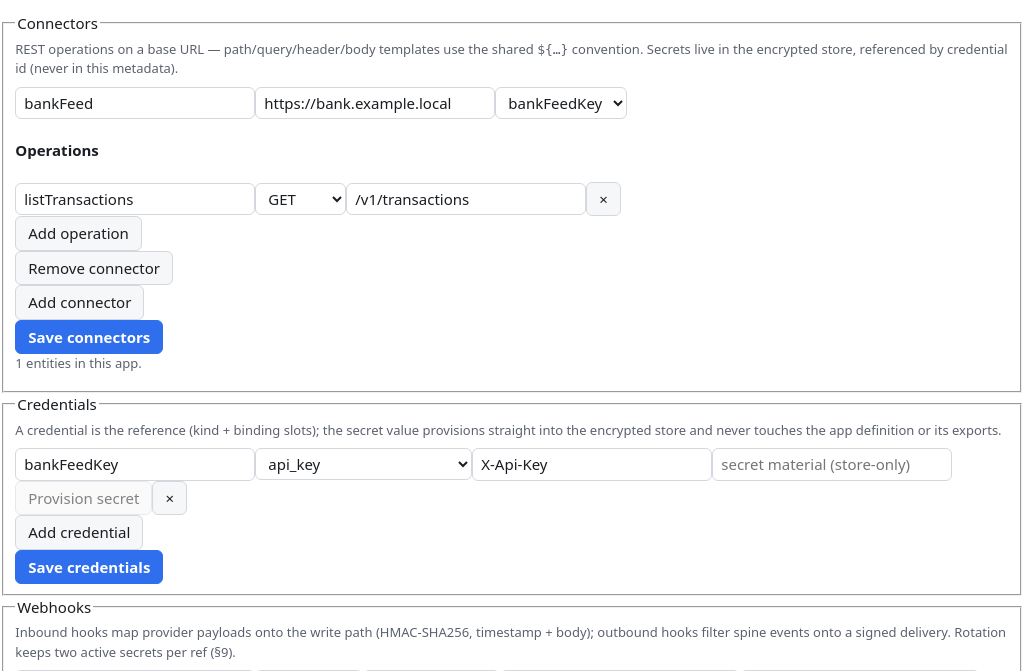
Test: Integrations (PHASE-6 §3/§9) › a failed secret provisioning surfaces its error instead of swallowing (re-audit)
Type "sk-live-123" into the password field named "Secret material bankFeedKey".
click(832, 465); type("sk-live-123")  # box [712,448,952,481]
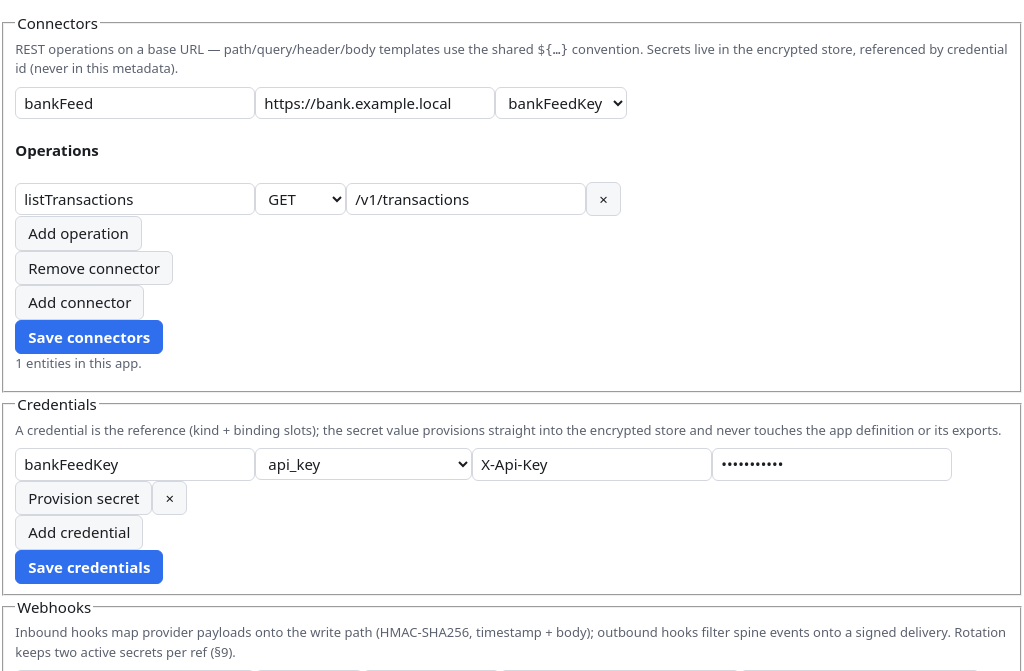
Click the button named "Provision secret bankFeedKey".
click(84, 498)  # box [15,481,152,515]
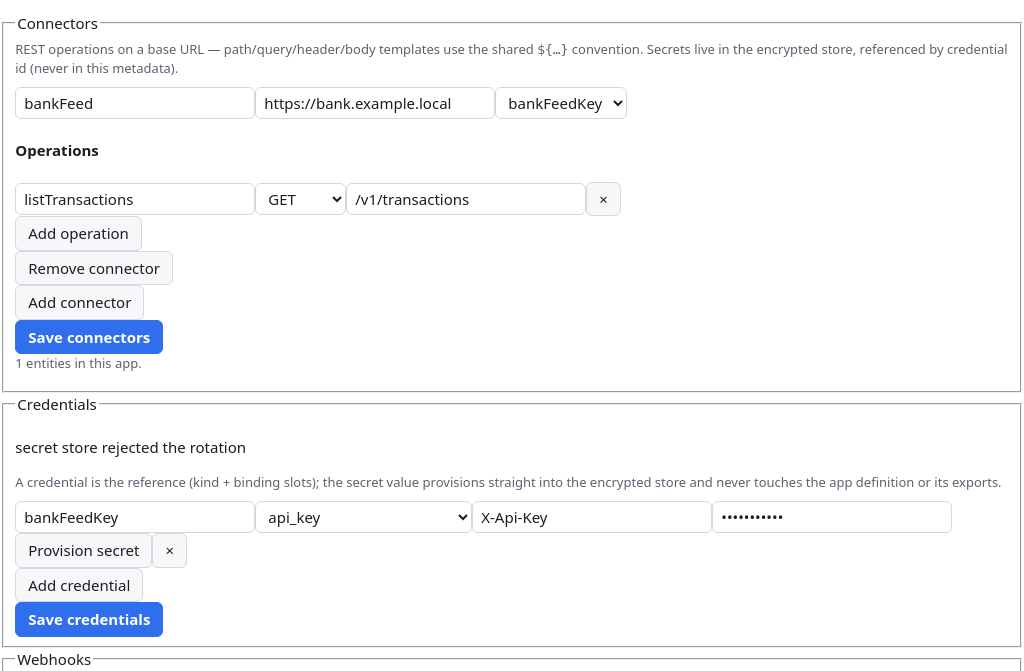
Expected: the text "secret store rejected the rotation" is shown, [15,437,246,457]
